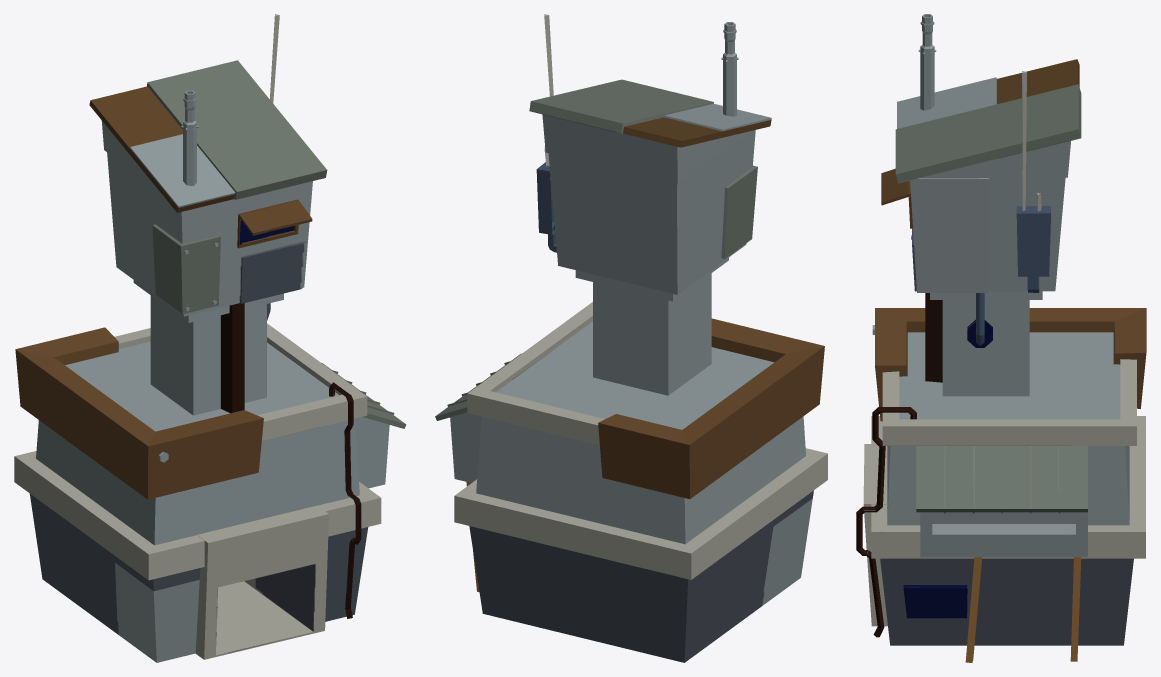
3 renders of one model, left to right at view 1: azimuth 30°, elevation 25°; view 2: azimuth 150°, elevation 25°; view 3: azimuth 270°, elevation 25°, orthographic. The views are drawn at different scales.
Parts seen in each view (by area): view 1: 柱体.009; view 2: 柱体.009; view 3: 柱体.009.
Boxes of the visible parts, <box> form: 柱体.009: <box>14,14,406,662</box>; 柱体.009: <box>435,14,827,662</box>; 柱体.009: <box>856,14,1146,662</box>.
Size of the model in its own units: 195 by 369 by 170.
